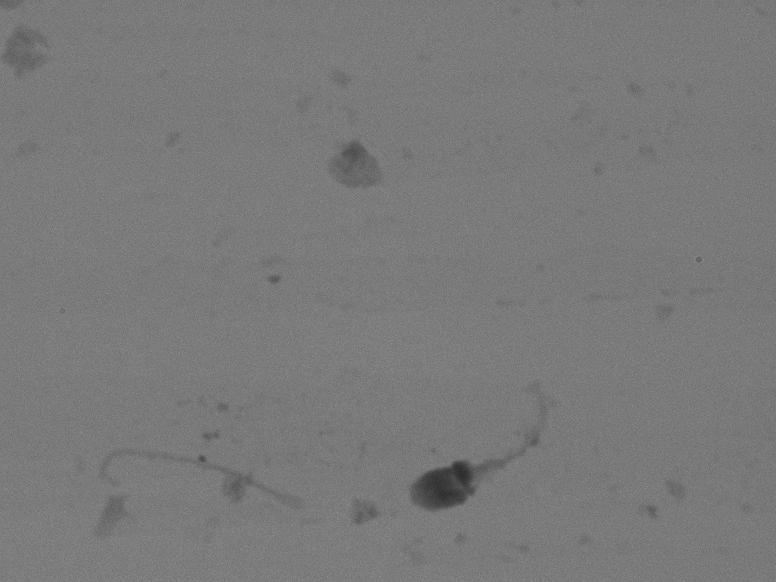Abnormal: (387, 345, 592, 551)
